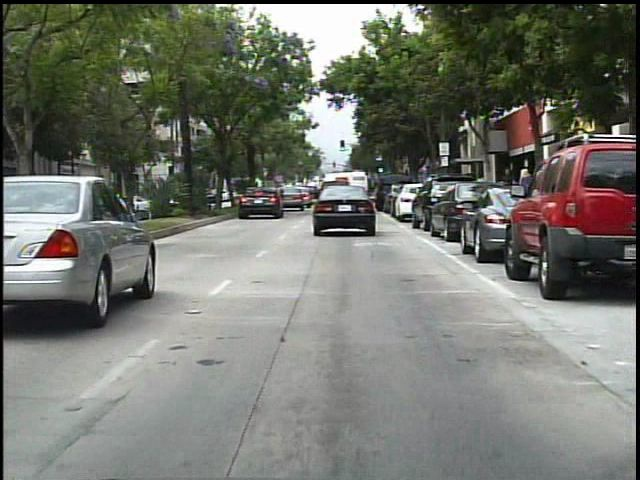person: (495, 159, 519, 221)
